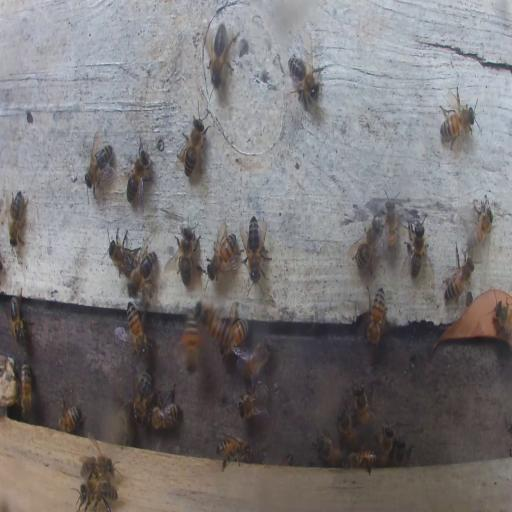bee: (177, 111, 208, 180), (288, 46, 322, 107), (84, 134, 116, 198), (349, 212, 383, 271), (443, 242, 476, 302), (170, 221, 200, 286), (244, 214, 271, 282), (207, 225, 239, 282), (105, 224, 137, 278), (125, 142, 152, 206), (206, 22, 231, 89), (405, 214, 429, 278), (438, 100, 476, 140), (126, 301, 150, 359), (180, 313, 202, 376), (216, 314, 248, 356), (78, 478, 118, 511), (198, 302, 230, 343), (130, 250, 156, 297), (366, 286, 386, 346), (468, 199, 492, 249), (7, 190, 28, 247), (149, 390, 179, 429), (314, 431, 346, 467), (238, 341, 270, 377), (132, 370, 153, 424), (216, 436, 250, 468), (238, 384, 268, 420), (383, 192, 399, 256), (353, 380, 373, 430), (9, 291, 26, 346), (58, 402, 84, 432), (378, 421, 396, 464), (20, 360, 33, 418), (338, 406, 357, 445), (80, 454, 112, 477), (347, 450, 376, 470), (393, 438, 413, 465)
